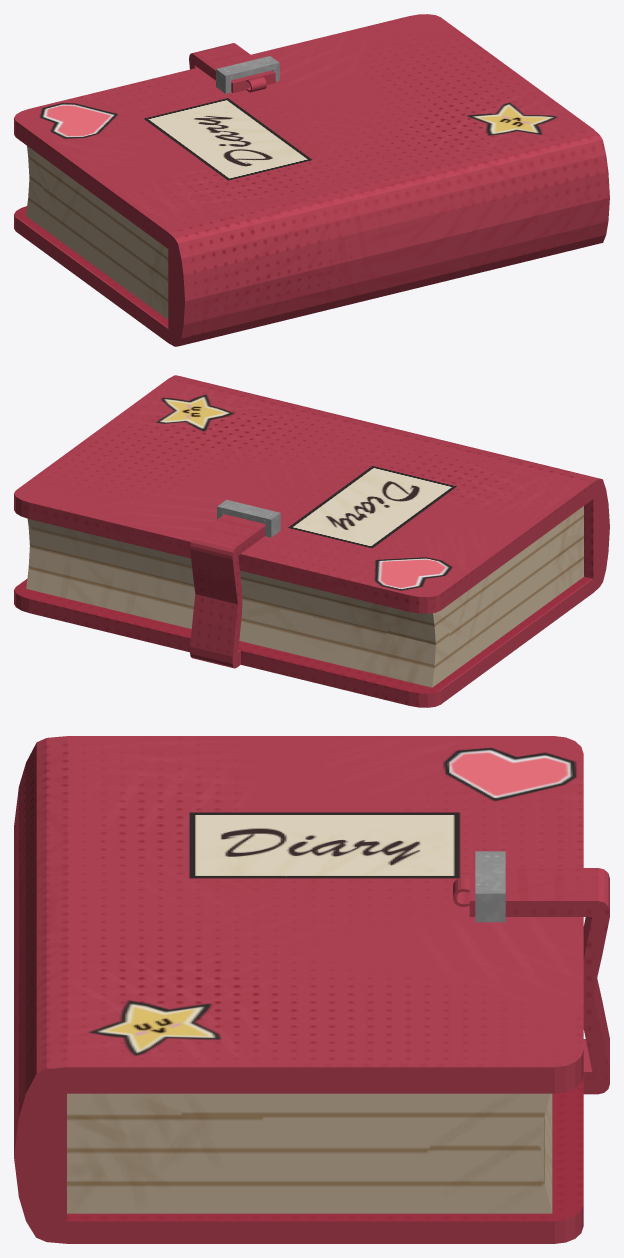
File: Diary.fbx
3 views of the same model, one above another, from view 1: azimuth 30°, elevation 25°; view 2: azimuth 150°, elevation 25°; view 3: azimuth 270°, elevation 25° (orthographic). The views are drawn at different scales.
Visible parts, largest first — view 1: Diary; view 2: Diary; view 3: Diary.
Part boxes in pixels (x1,y1,x2,y2): Diary: (14,14,609,346); Diary: (14,375,609,707); Diary: (14,736,609,1243).
Size of the model in its own units: 897 by 259 by 682.
1 material, 1 textured.
